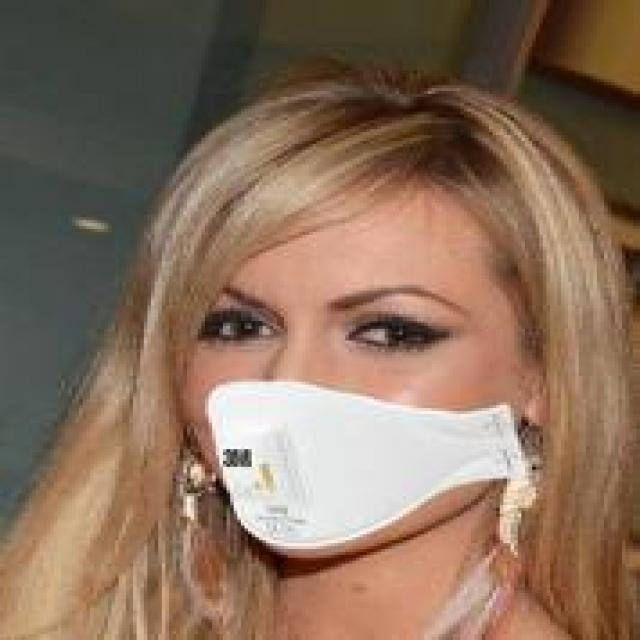mask: (122, 58, 604, 570)
